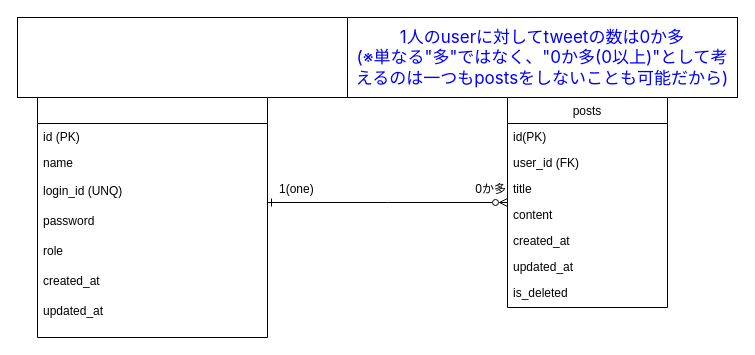
The diagram is 755 pixels wide and 355 high, and some of its shapes have lost their labels. Each missing label, with the box of its shape:
1つのpostsは必ず誰かuser1人が作成したもの。つまり、あるユーザーに属しているので下記の表記になります。: (16, 16, 348, 98)
users: (36, 96, 268, 338)
